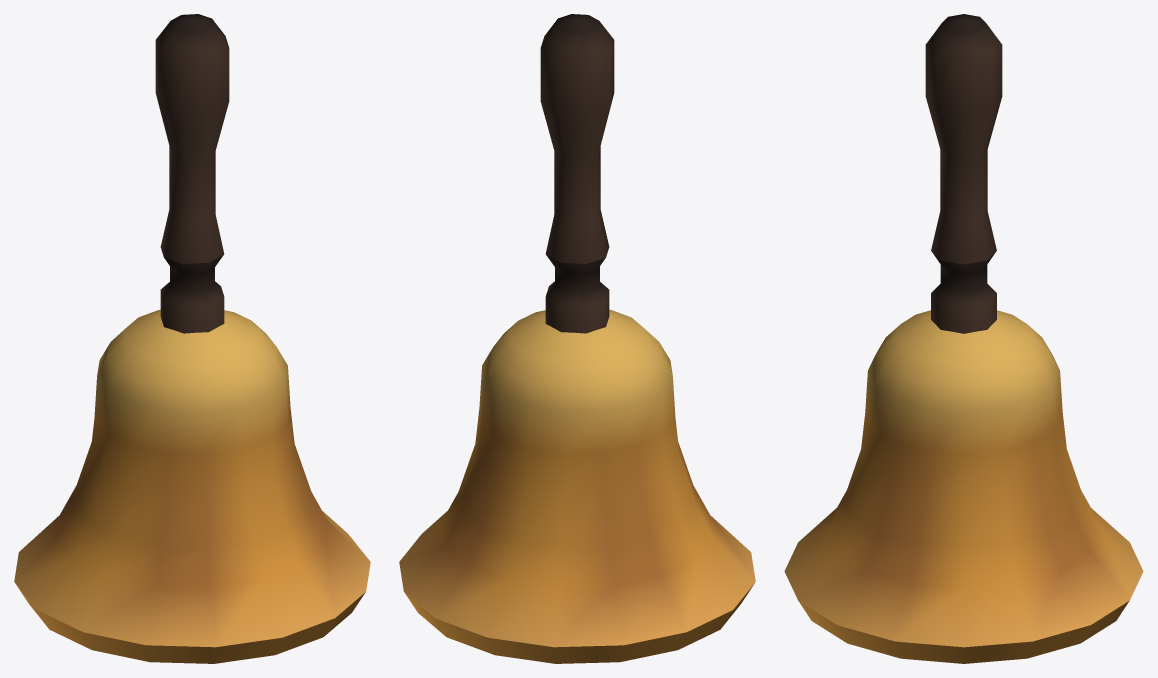
3 renders of one model, left to right at view 1: azimuth 30°, elevation 25°; view 2: azimuth 150°, elevation 25°; view 3: azimuth 270°, elevation 25°, orthographic.
Visible parts, largest first — view 1: base.454; view 2: base.454; view 3: base.454.
Part boxes in pixels (x1,y1,x2,y2): base.454: (14,14,370,663); base.454: (399,14,755,663); base.454: (784,14,1143,663).
Bounding box in the file's own units: 0.2593 × 0.5 × 0.2593.
